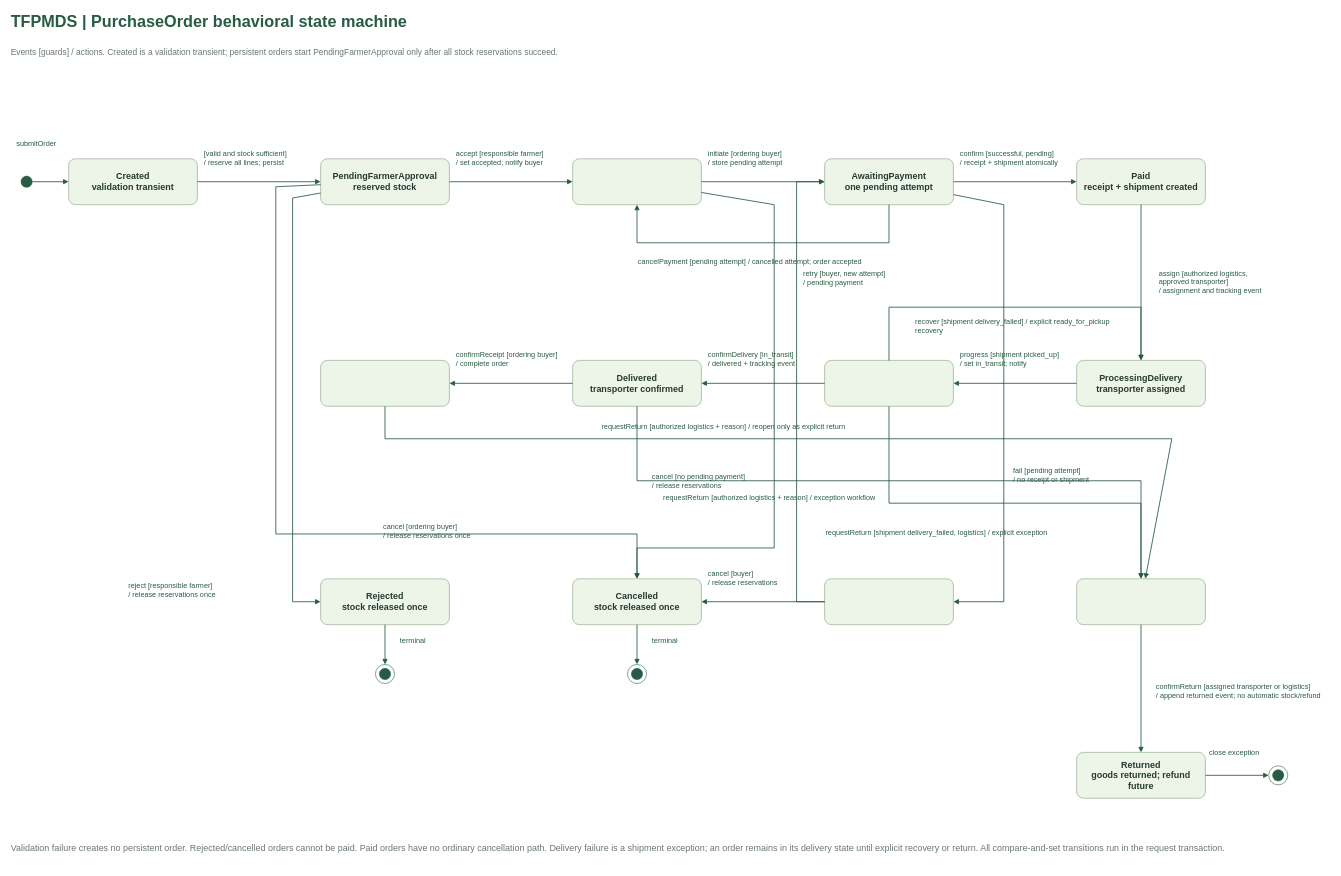
The diagram is 1341 pixels wide and 876 high, and some of its shapes have lost their labels. The shapes that lost their labels are listed below. From the top down, each one's centre as x and y in pixels, then its label:
(x=636, y=181): Accepted farmer approved
(x=384, y=383): Completed buyer confirmed receipt
(x=888, y=383): InTransit shipment in transit
(x=888, y=601): PaymentFailed stock remains reserved
(x=1140, y=601): ReturnRequested explicit logistics exception
